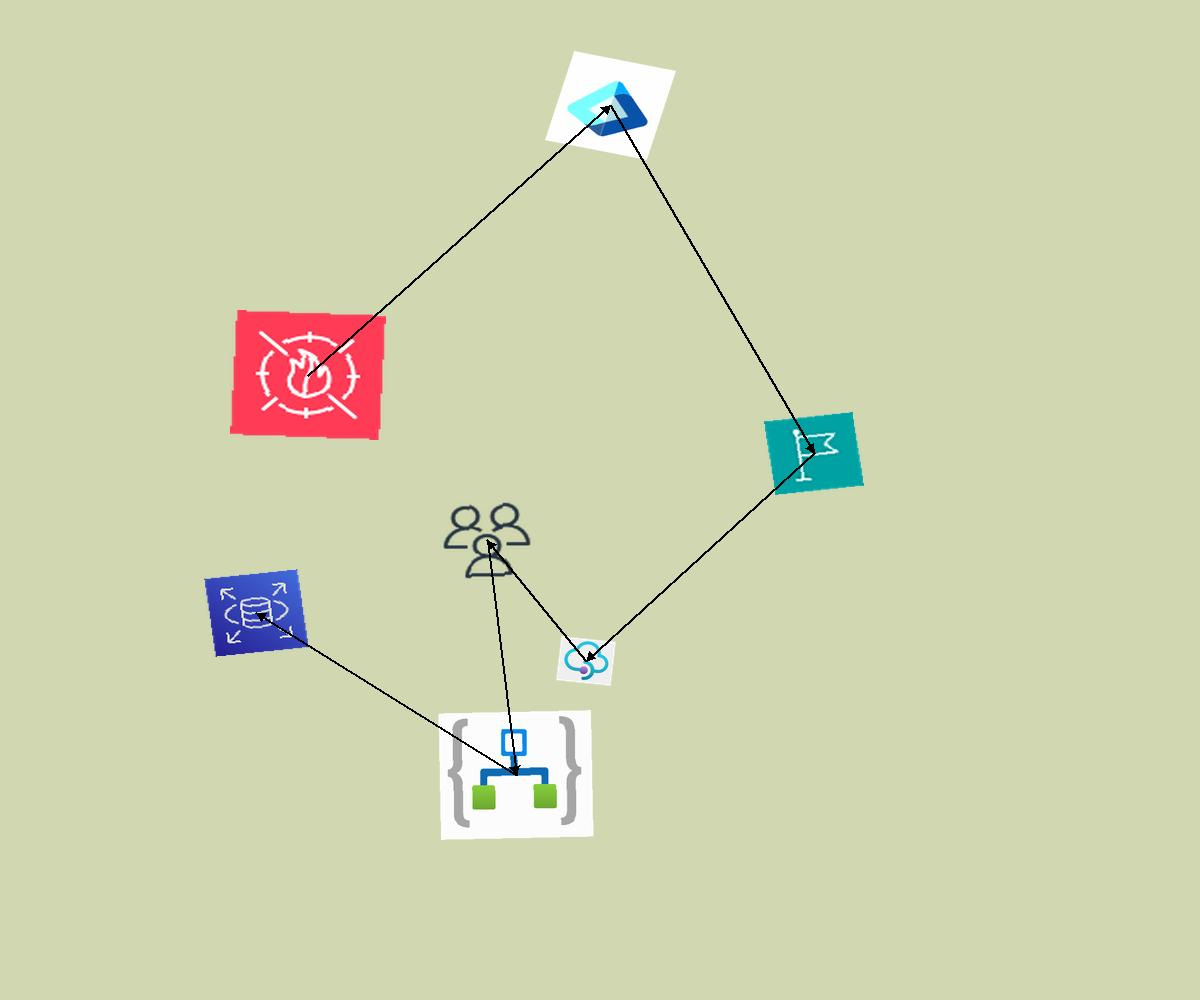AWS-RDS: (204, 569, 309, 657)
AWS-Region: (764, 412, 864, 495)
AWS-Res_Users: (436, 498, 538, 583)
AWS-WAF: (230, 310, 386, 440)
Azure_api_gateway: (556, 636, 616, 686)
Azure_integration-204-Logic-Apps: (438, 710, 594, 840)
Azure_microsoft_entra: (545, 51, 676, 160)
